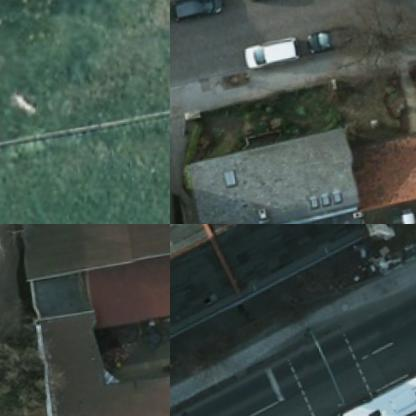car: (302, 26, 357, 62), (170, 0, 222, 30), (245, 0, 288, 9)
van: (236, 43, 296, 75)
